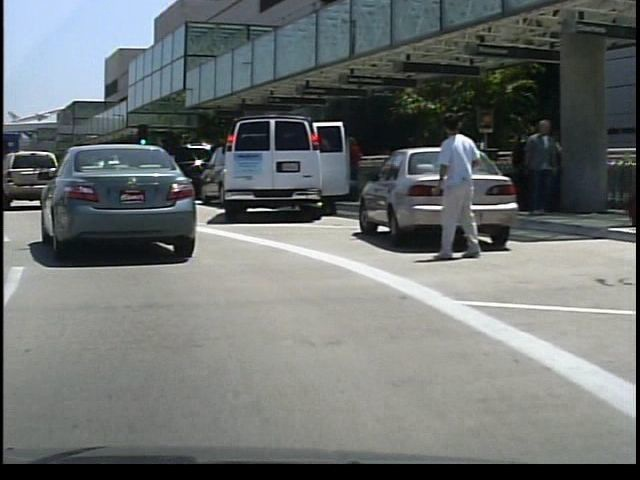person: (426, 107, 480, 262), (513, 116, 556, 216), (339, 131, 363, 204)
